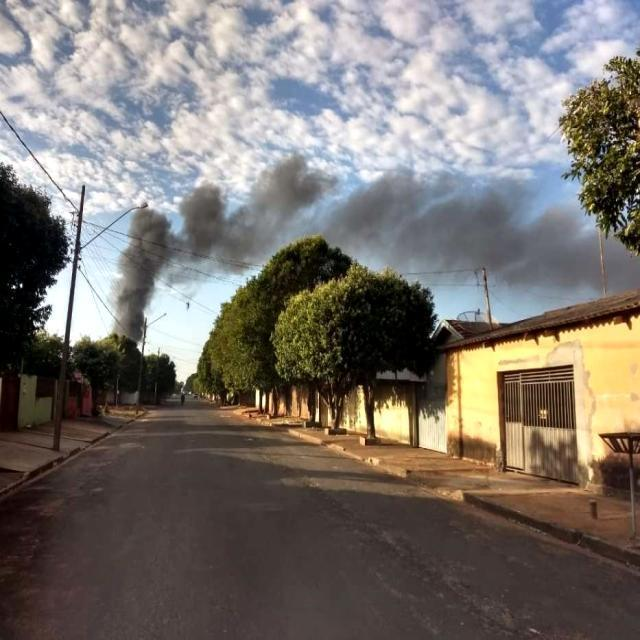Smoke: (371, 154, 612, 296), (175, 150, 328, 270), (113, 202, 172, 342)
